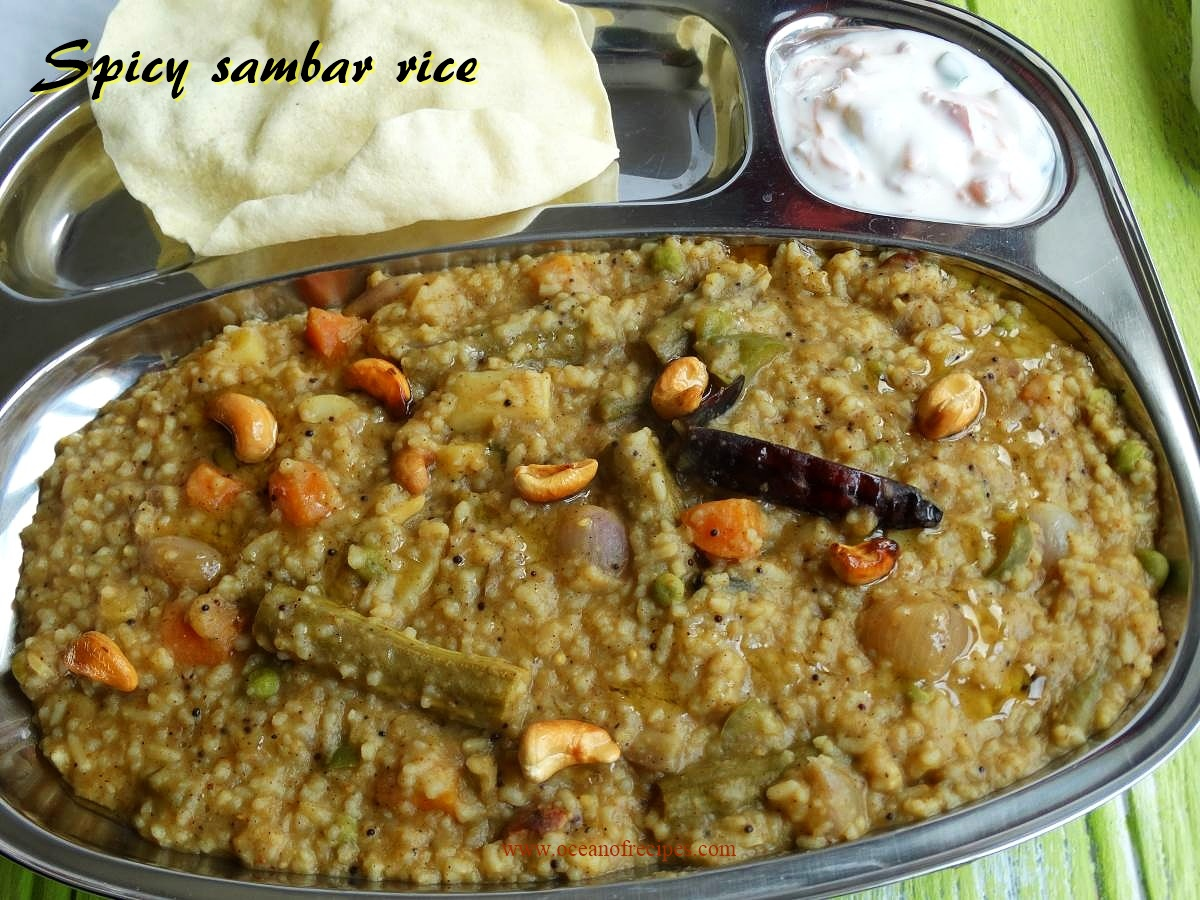rice: (56, 294, 1159, 804)
